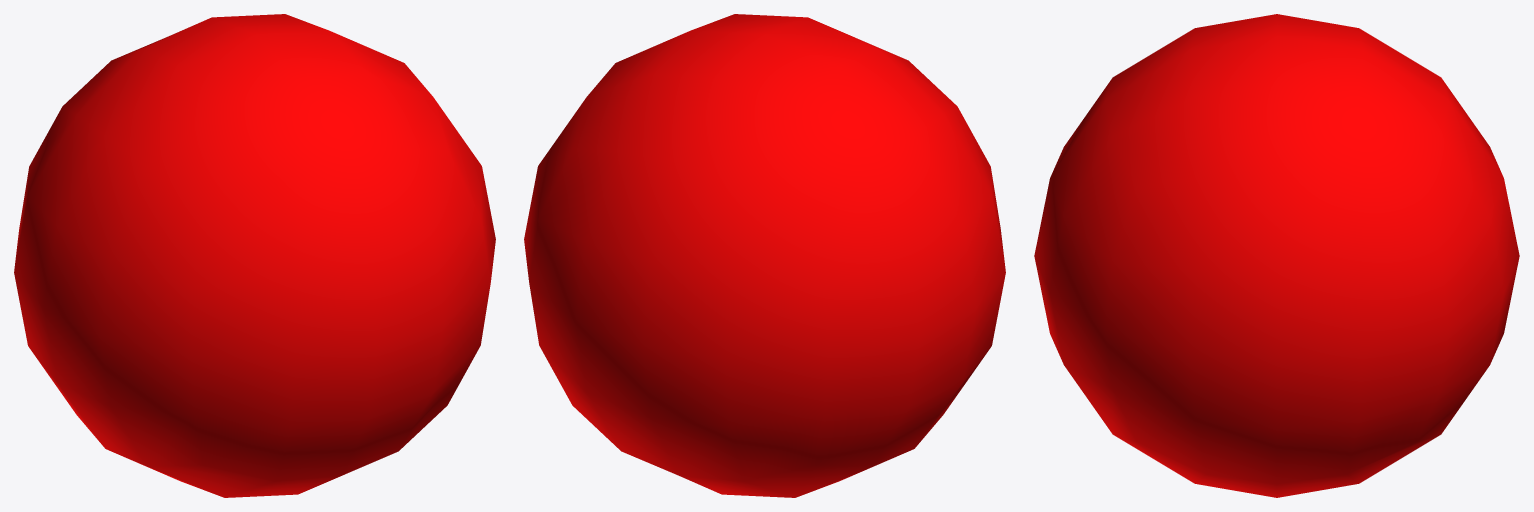
File: 06apple.glb
The picture shows the model from 3 angles, left to right: view 1: azimuth 30°, elevation 25°; view 2: azimuth 150°, elevation 25°; view 3: azimuth 270°, elevation 25°; orthographic projection.
Visible parts, largest first — view 1: 06-apple; view 2: 06-apple; view 3: 06-apple.
Boxes of the visible parts, bbox=[...] form: 06-apple: bbox=[14, 14, 495, 497]; 06-apple: bbox=[524, 14, 1005, 497]; 06-apple: bbox=[1034, 14, 1519, 497].
Size of the model in its own units: 8.75 by 8.75 by 8.75.
